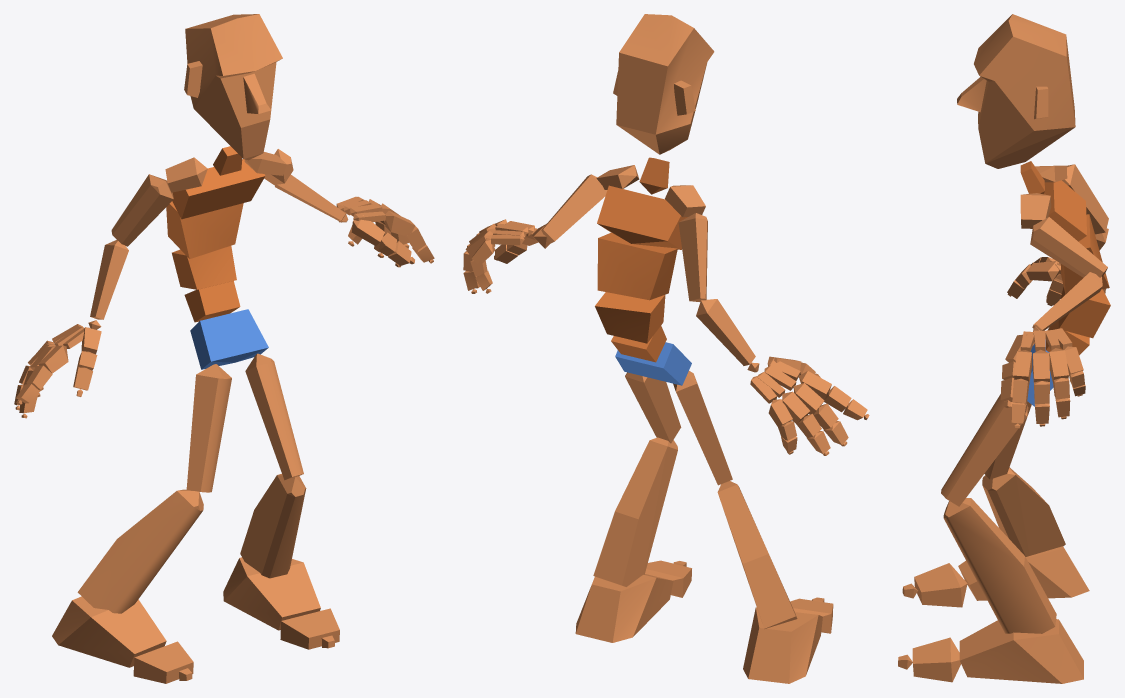
The model's file is prueba69.obj.
3 views of the same model, side by side, from view 1: azimuth 30°, elevation 25°; view 2: azimuth 150°, elevation 25°; view 3: azimuth 270°, elevation 25° (orthographic). The views are drawn at different scales.
Parts seen in each view (by area): view 1: BOPED_Head, BOPED_R_leg, BOPED_R_foot, BOPED_L_leg, BOPED_R_foot01, BOPED_R_legup, BOPED_L_legup, Bone01, Bone04, Bone05, BOPED_R_arm_upper, Bone03 (+7 smaller); view 2: BOPED_Head, BOPED_L_leg, BOPED_R_foot01, BOPED_R_leg, BOPED_R_foot, Bone04, Bone05, Bone03, BOPED_R_legup, BOPED_L_legup, BOPED_R_arm_upper, Bone01 (+8 smaller); view 3: BOPED_Head, BOPED_L_leg, BOPED_R_foot01, BOPED_R_leg, BOPED_L_legup, BOPED_R_foot, BOPED_L_arm_upper, BOPED_R_foot_toe01, BOPED_R_foot_toe04, Bone05, Bone03, BOPED_L_arm_fore (+15 smaller).
Boxes of the visible parts, x1=… form: BOPED_Head: x1=184, y1=14, x2=282, y2=160; BOPED_R_leg: x1=77, y1=489, x2=203, y2=613; BOPED_R_foot: x1=52, y1=596, x2=166, y2=667; BOPED_L_leg: x1=240, y1=473, x2=306, y2=578; BOPED_R_foot01: x1=223, y1=557, x2=320, y2=630; BOPED_R_legup: x1=186, y1=364, x2=231, y2=492; BOPED_L_legup: x1=245, y1=353, x2=303, y2=480; Bone01: x1=190, y1=309, x2=268, y2=369; Bone04: x1=166, y1=201, x2=243, y2=258; Bone05: x1=172, y1=159, x2=265, y2=219; BOPED_R_arm_upper: x1=111, y1=174, x2=173, y2=246; Bone03: x1=172, y1=246, x2=236, y2=289; BOPED_Head: x1=613, y1=14, x2=714, y2=154; BOPED_L_leg: x1=593, y1=437, x2=677, y2=586; BOPED_R_foot01: x1=575, y1=574, x2=673, y2=642; BOPED_R_leg: x1=717, y1=481, x2=797, y2=628; BOPED_R_foot: x1=743, y1=607, x2=822, y2=683; Bone04: x1=597, y1=233, x2=677, y2=300; Bone05: x1=597, y1=185, x2=687, y2=249; Bone03: x1=595, y1=292, x2=665, y2=343; BOPED_R_legup: x1=673, y1=370, x2=732, y2=485; BOPED_L_legup: x1=625, y1=372, x2=681, y2=443; BOPED_R_arm_upper: x1=678, y1=213, x2=707, y2=301; Bone01: x1=615, y1=342, x2=691, y2=385; BOPED_Head: x1=957, y1=14, x2=1075, y2=168; BOPED_L_leg: x1=943, y1=498, x2=1056, y2=633; BOPED_R_foot01: x1=959, y1=619, x2=1083, y2=683; BOPED_R_leg: x1=982, y1=467, x2=1065, y2=556; BOPED_L_legup: x1=941, y1=394, x2=1028, y2=506; BOPED_R_foot: x1=958, y1=546, x2=1089, y2=600; BOPED_L_arm_upper: x1=1030, y1=217, x2=1107, y2=277; BOPED_R_foot_toe01: x1=914, y1=563, x2=967, y2=607; BOPED_R_foot_toe04: x1=912, y1=637, x2=960, y2=682; Bone05: x1=1044, y1=180, x2=1086, y2=241; Bone03: x1=1058, y1=287, x2=1110, y2=338; BOPED_L_arm_fore: x1=1032, y1=272, x2=1102, y2=330.
Bounding box in the file's own units: 130 × 184 × 56.5.
